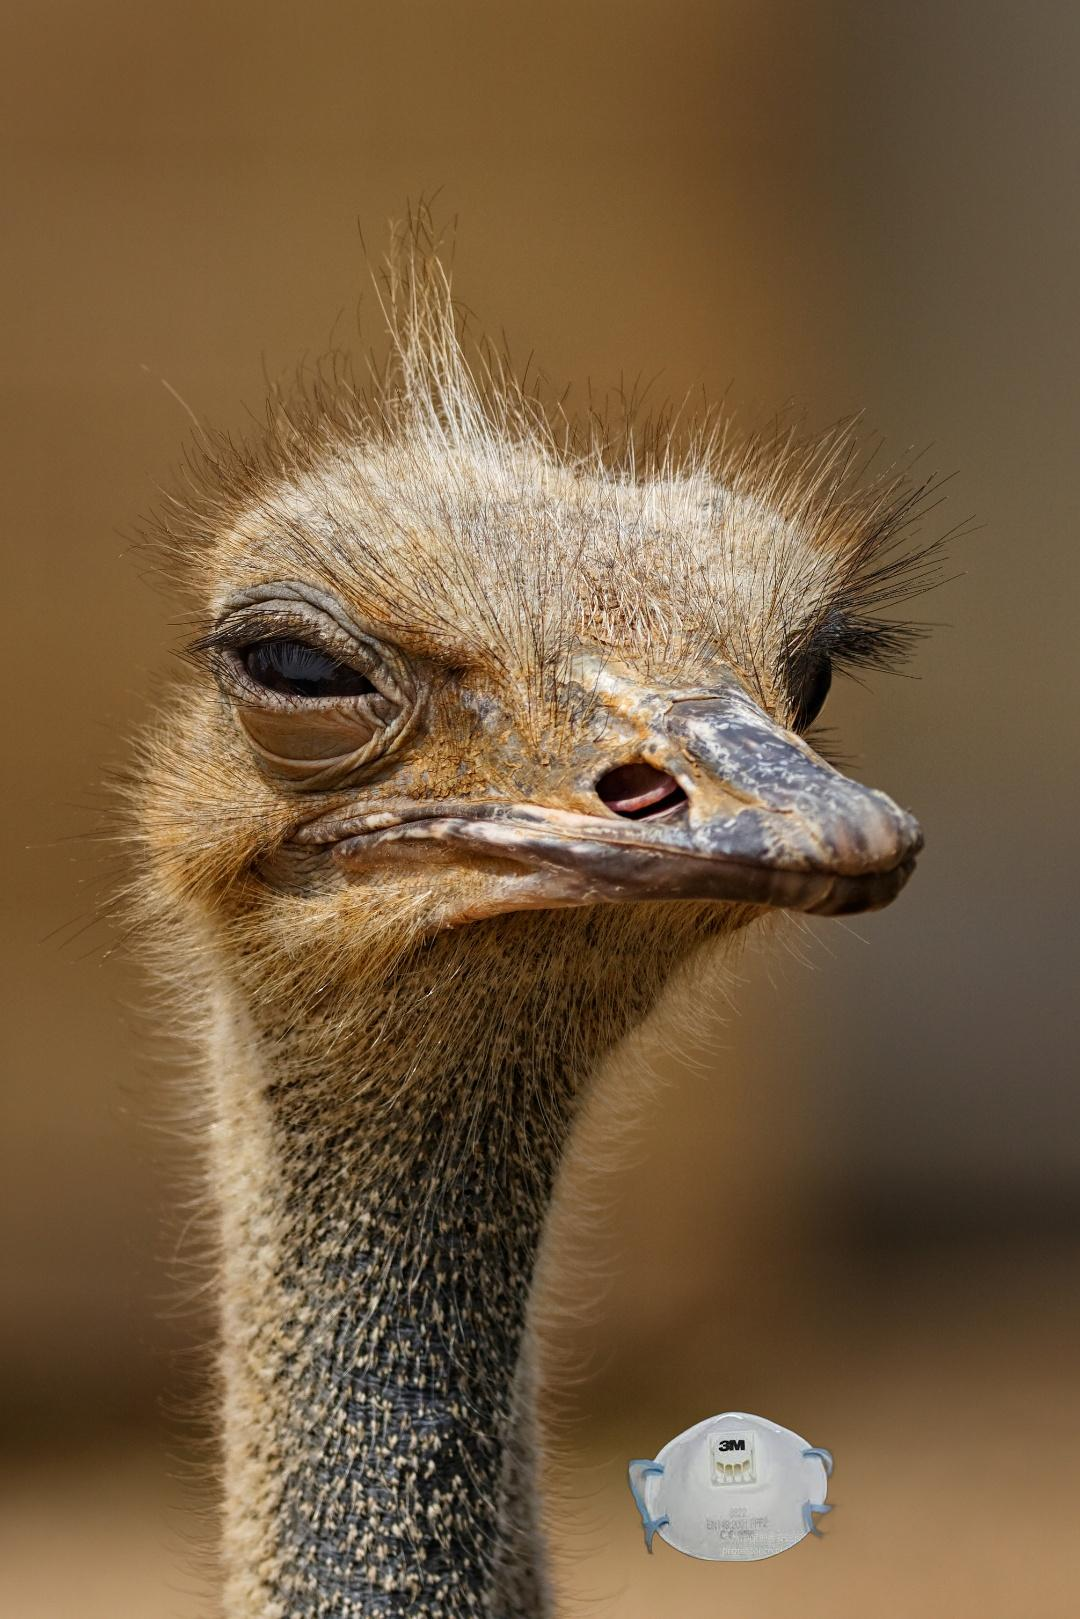trash: (626, 1408, 845, 1564)
